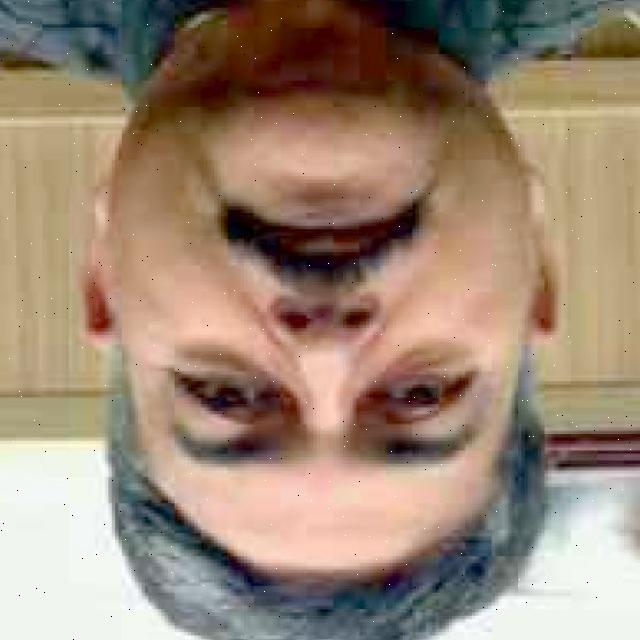puffy_eyes: (159, 360, 262, 382)
